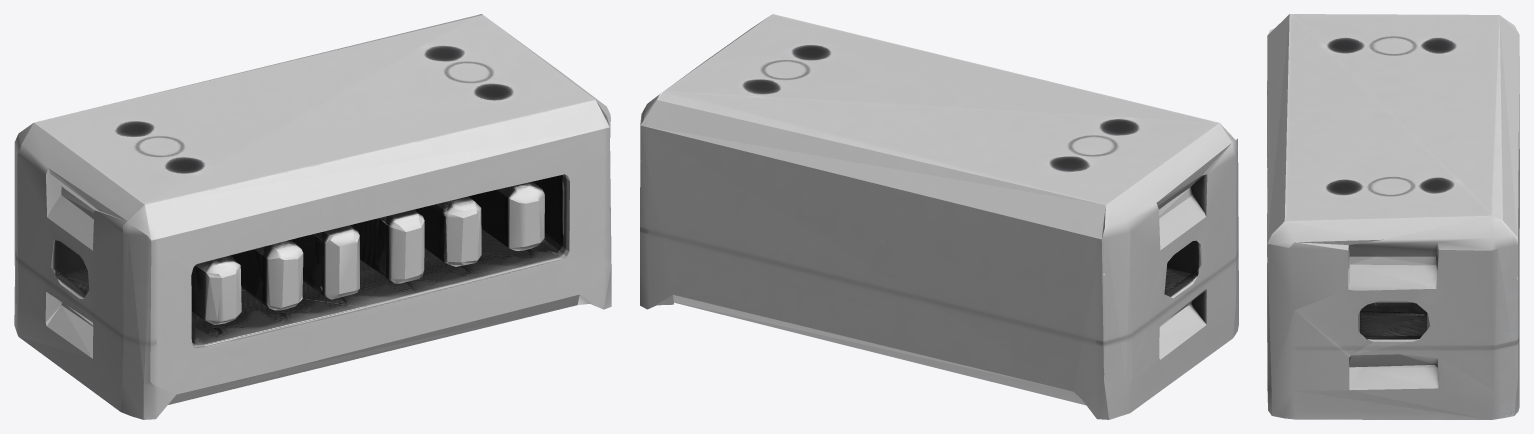
Rendered from jersey_barrier.glb.
The picture shows the model from 3 angles, left to right: view 1: azimuth 30°, elevation 25°; view 2: azimuth 150°, elevation 25°; view 3: azimuth 270°, elevation 25°; orthographic projection. The views are drawn at different scales.
Size of the model in its own units: 1.9 by 0.7785 by 0.9128.
Materials: 1 (1 with a texture image).
